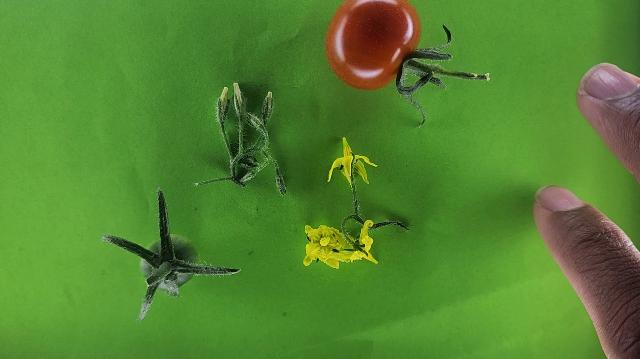Anthesis: (326, 135, 377, 188), (304, 225, 354, 269)
Flower Bud: (233, 82, 247, 125), (216, 86, 231, 124), (265, 91, 273, 117), (234, 84, 242, 105), (233, 81, 239, 90)
Fruit Maturation: (141, 234, 199, 289)
Fully Grown: (322, 0, 421, 92)
